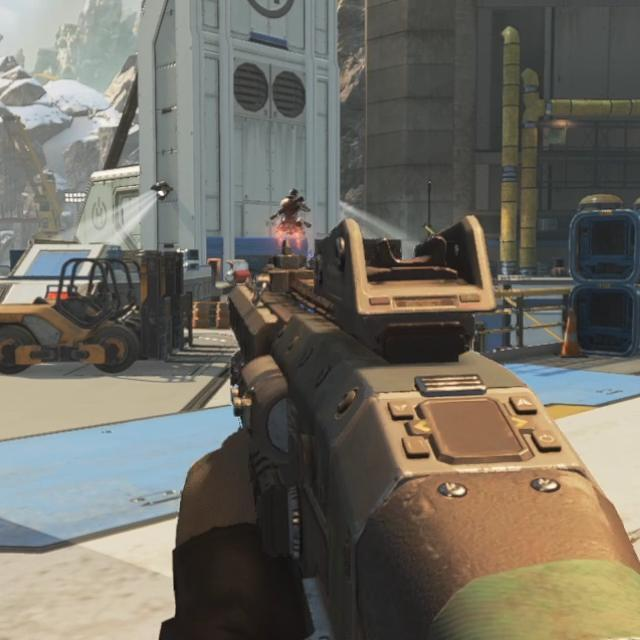avatar: (276, 186, 306, 258)
